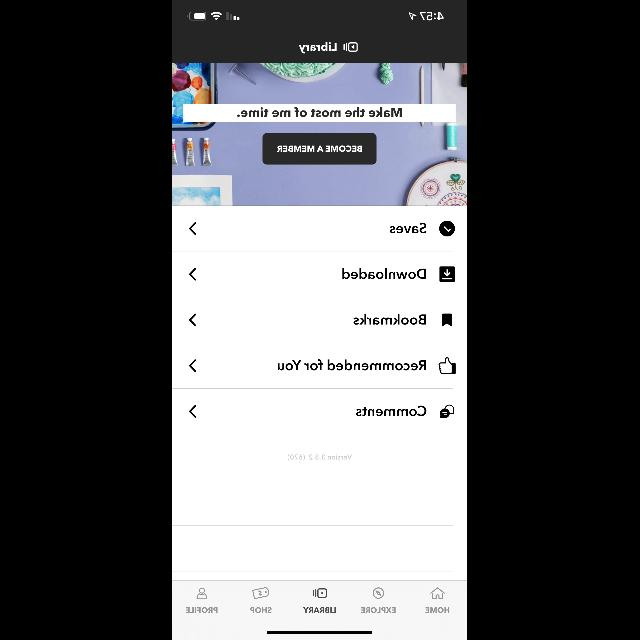icon: (439, 358, 456, 374), (440, 266, 456, 282), (440, 222, 456, 236), (252, 587, 270, 599), (441, 404, 455, 418), (431, 588, 445, 598), (344, 42, 358, 52), (313, 588, 327, 598), (443, 314, 453, 326), (197, 588, 207, 598), (374, 588, 384, 598), (190, 405, 197, 417), (190, 360, 197, 372), (190, 314, 197, 326), (190, 268, 197, 280), (190, 223, 197, 235)
image: (172, 63, 468, 205)
text: (238, 107, 402, 117), (279, 360, 427, 370), (343, 268, 427, 278), (355, 314, 427, 324), (357, 406, 427, 416), (299, 42, 337, 54), (288, 454, 352, 460), (390, 223, 428, 233), (362, 607, 396, 613), (426, 607, 450, 613), (304, 608, 336, 612), (186, 608, 218, 612), (250, 608, 272, 612)
textbutton: (263, 134, 377, 164)
uppertaskbar: (188, 12, 444, 20)
